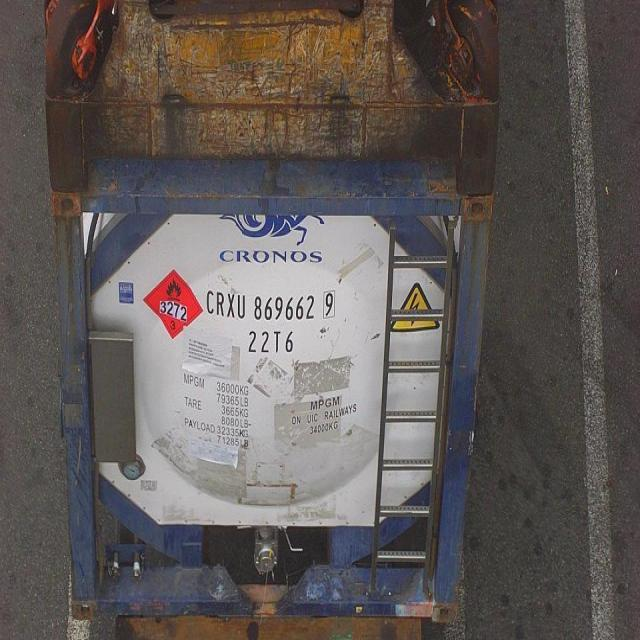ISO: (246, 329, 294, 356)
container_number: (206, 287, 338, 313)
